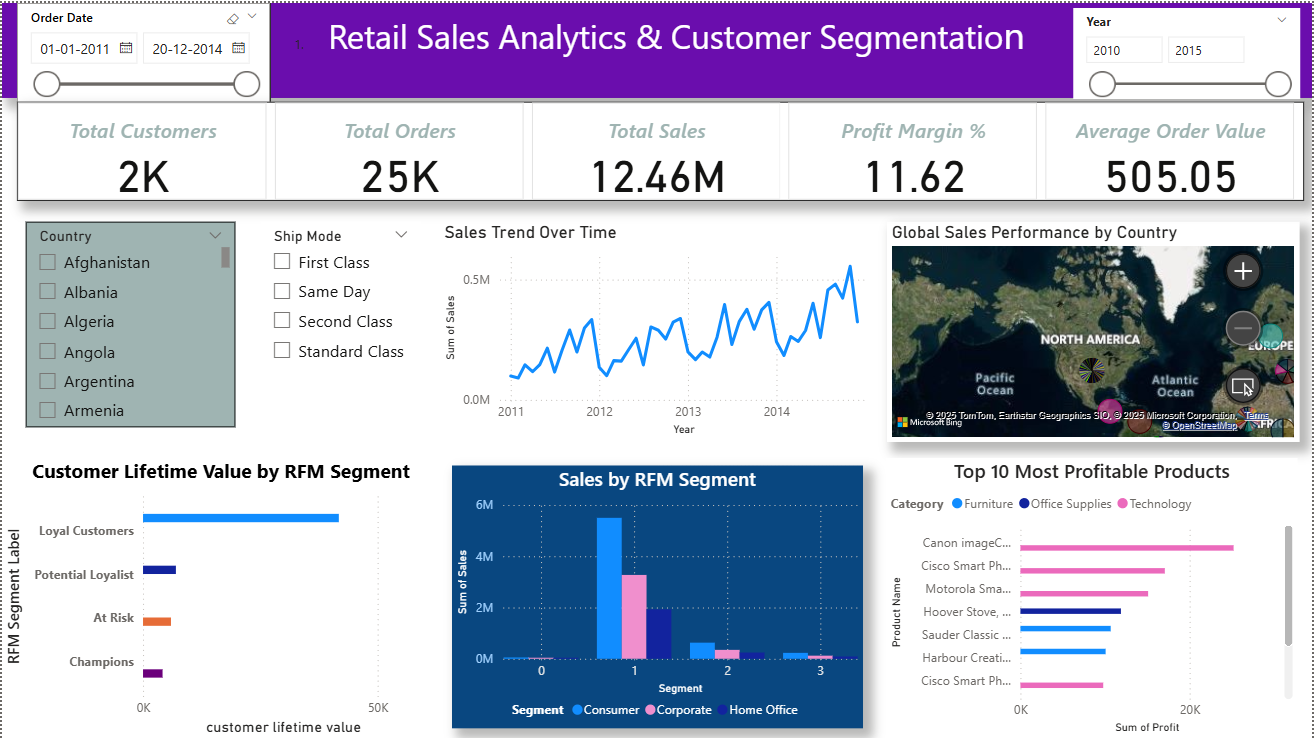

The page's visual inventory and layout, read from the dashboard file:
{"tool":"powerbi","page":{"name":"Page 1","canvas":[1280,720],"ordinal":0},"visuals":[{"type":"lineChart","title":" Sales Trend Over Time","fields":{"Y":["Sum(global_superstore_cleaned.Sales)"],"Category":["DateTable.Date.Variation.Date Hierarchy.Year","DateTable.Date.Variation.Date Hierarchy.Month"]},"box":[428,214,426.6,214],"z":0},{"type":"map","title":"Global Sales Performance by Country","fields":{"Category":["global_superstore_cleaned.Country"],"Series":["global_superstore_cleaned.Sales"]},"box":[864.9,214,403,215.5],"z":1000},{"type":"clusteredColumnChart","title":"Sales by RFM Segment","fields":{"Y":["Sum(global_superstore_cleaned.Sales)"],"Series":["global_superstore_cleaned.Segment"],"Category":["customer_segments.Segment"]},"box":[439.9,451.7,401.5,256.8],"z":2000},{"type":"clusteredBarChart","title":"Top 10 Most Profitable Products","fields":{"Category":["global_superstore_cleaned.Product Name"],"Y":["Sum(global_superstore_cleaned.Profit)"],"Series":["global_superstore_cleaned.Category"]},"box":[864.1,444.9,402.7,274.6],"z":3000},{"type":"textbox","box":[0,0,1279.7,93],"z":4000},{"type":"slicer","fields":{"Values":["global_superstore_cleaned.Order Date"]},"box":[14.8,0,248,97.4],"z":5000},{"type":"clusteredBarChart","title":"Customer Lifetime Value by RFM Segment","fields":{"Y":["customer_segments.Customer Lifetime Value"],"Category":["customer_segments.RFM Segment Label"],"Series":["customer_segments.RFM Segment Label"]},"box":[0,444.3,428,276],"z":6000},{"type":"cardVisual","fields":{"Data":["customer_segments.Total Customers","customer_segments.Total Orders","global_superstore_cleaned.Total Sales","global_superstore_cleaned.Profit Margin %","global_superstore_cleaned.Average Order Value"]},"box":[14.6,97,1257.7,97],"z":7000},{"type":"slicer","fields":{"Values":["global_superstore_cleaned.Country"]},"box":[23.6,214,205.2,200.7],"z":8000},{"type":"slicer","fields":{"Values":["DateTable.Year"]},"box":[1046.5,4.4,221.4,88.6],"z":9000},{"type":"slicer","fields":{"Values":["global_superstore_cleaned.Ship Mode"]},"box":[252.4,214,156.5,183],"z":10000}]}

Visuals, with their boxes in screenshot pixels (x1, y1, x2, y2), scaled from the page's 1280x720 canvas onto the 1315x738 screenshot:
" Sales Trend Over Time" lineChart: 440,219,878,439
"Global Sales Performance by Country" map: 889,219,1303,440
"Sales by RFM Segment" clusteredColumnChart: 452,463,864,726
"Top 10 Most Profitable Products" clusteredBarChart: 888,456,1301,737
textbox: 0,0,1314,95
slicer - global_superstore_cleaned.Order Date: 15,0,270,100
"Customer Lifetime Value by RFM Segment" clusteredBarChart: 0,455,440,737
cardVisual - customer_segments.Total Customers x customer_segments.Total Orders: 15,99,1307,199
slicer - global_superstore_cleaned.Country: 24,219,235,425
slicer - DateTable.Year: 1075,5,1303,95
slicer - global_superstore_cleaned.Ship Mode: 259,219,420,407
